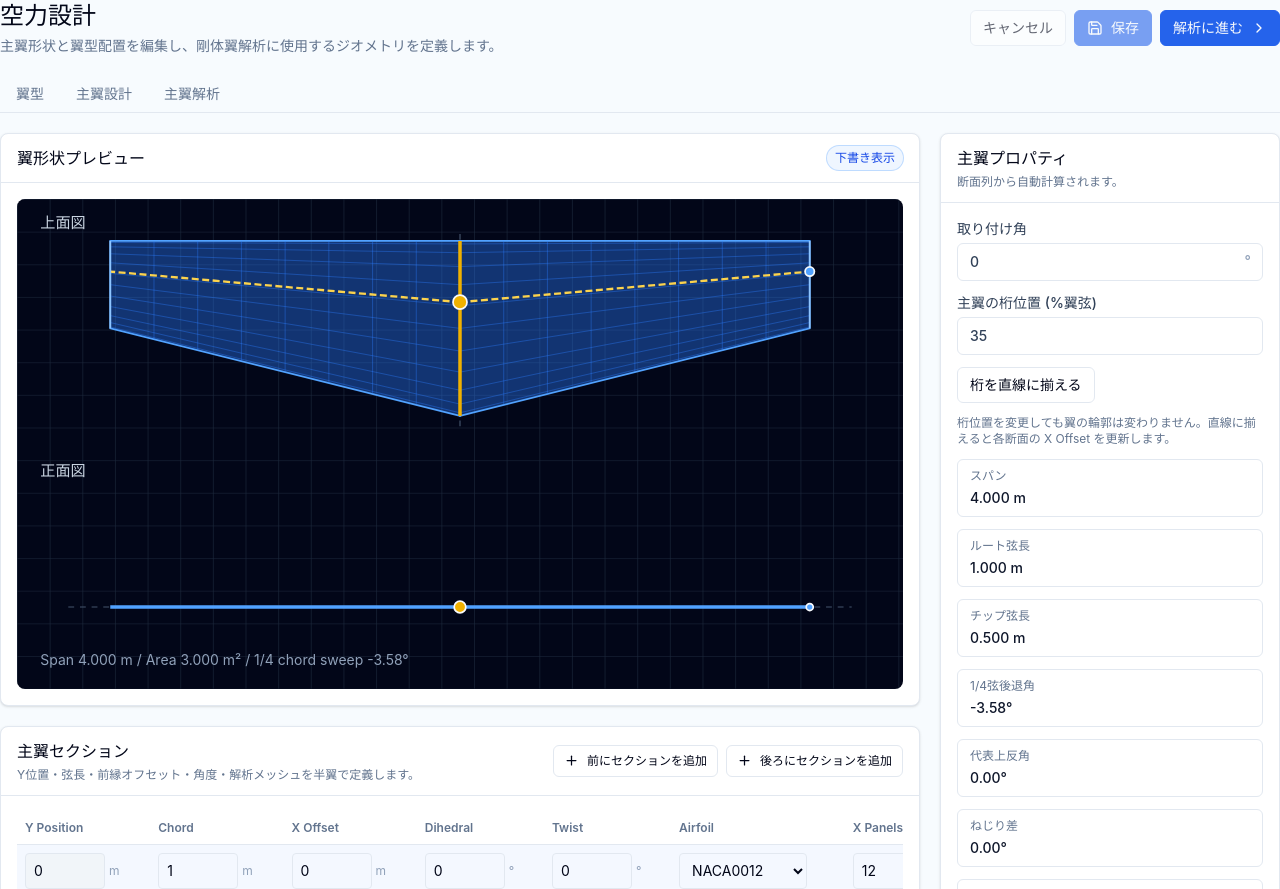
AircraftWorkspacePage › adds a new root section before the first selected section
Click the button "前にセクションを追加".
click(635, 761)  # box [553,745,718,777]
(page scrolled)
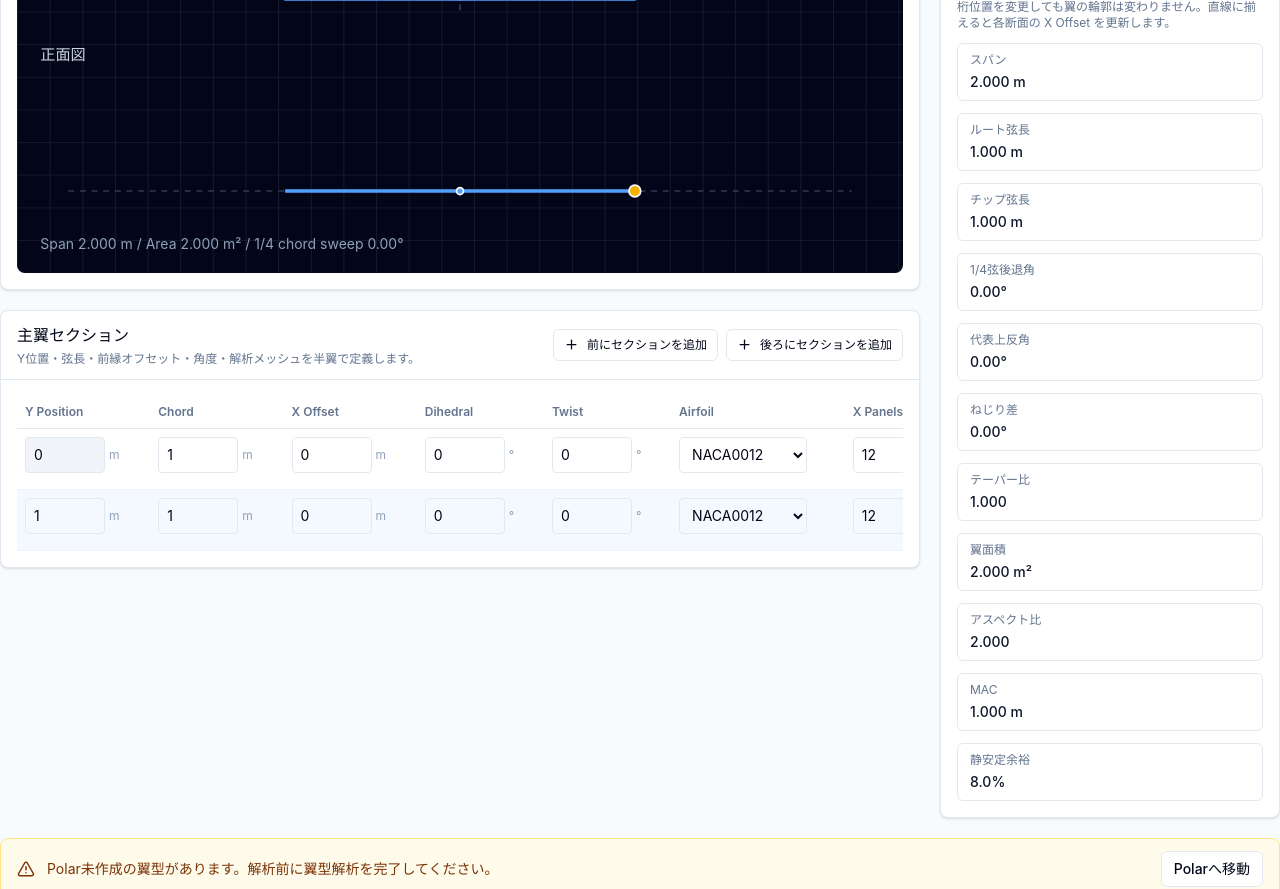
Expected: the number field named "Section 1 Y position" holds "0", [25,437,105,473]
Expected: the number field named "Section 2 Y position" holds "1", [25,498,105,534]
